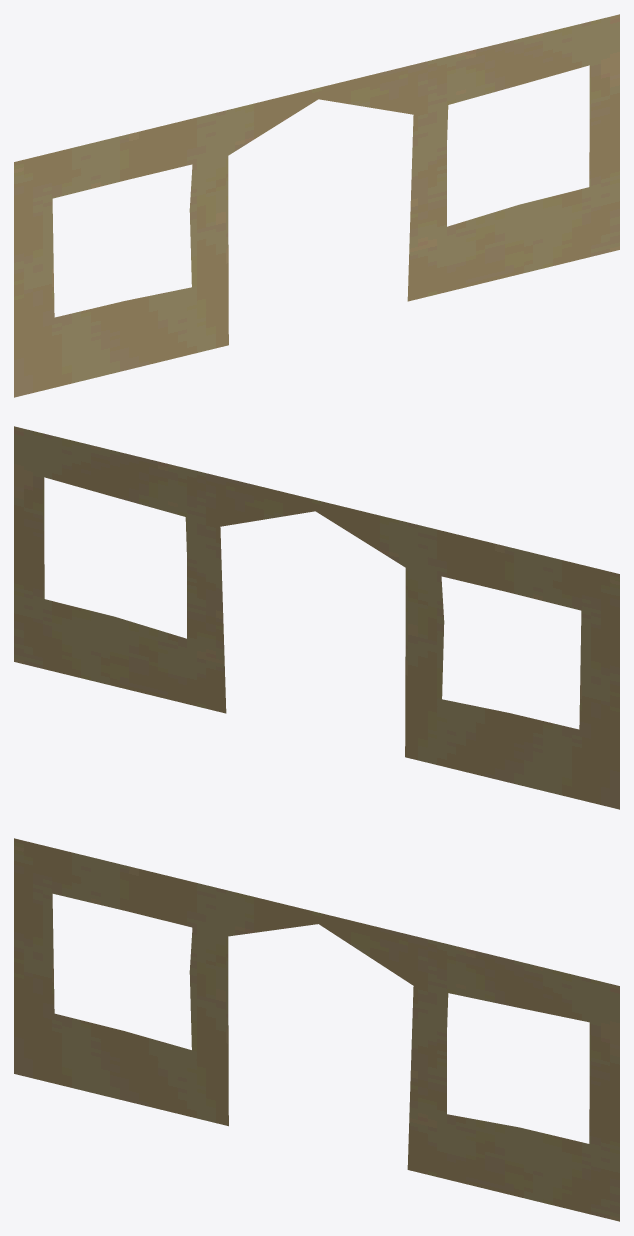
File: W_AI3_fOf_Kleiner_Versetzt_2118.glb
3 renders of one model, top to bottom at view 1: azimuth 30°, elevation 25°; view 2: azimuth 150°, elevation 25°; view 3: azimuth 330°, elevation 25°, orthographic.
Visible parts, largest first — view 1: polySurfaceShape908; view 2: polySurfaceShape908; view 3: polySurfaceShape908.
Part boxes in pixels (bbox=[...]): polySurfaceShape908: bbox=[14, 14, 619, 397]; polySurfaceShape908: bbox=[14, 426, 619, 809]; polySurfaceShape908: bbox=[14, 838, 619, 1221].
Bounding box in the file's own units: 0.9385 × 0.3486 × 1.34e-07.
Materials: 1 (1 with a texture image).
